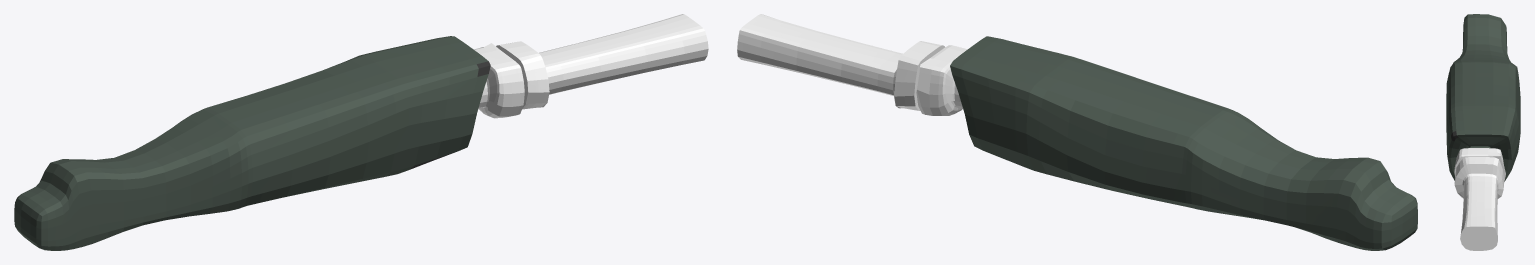
Rendered from Main_Pickup.fbx.
3 renders of one model, left to right at view 1: azimuth 30°, elevation 25°; view 2: azimuth 150°, elevation 25°; view 3: azimuth 270°, elevation 25°, orthographic. The views are drawn at different scales.
Visible parts, largest first — view 1: zombie; view 2: zombie; view 3: zombie.
Part boxes in pixels (x1,y1,x2,y2): zombie: (14, 14, 708, 250); zombie: (737, 14, 1417, 250); zombie: (1446, 14, 1520, 250).
Size of the model in its own units: 67.04 by 9.35 by 9.45.
1 material, 1 textured.
